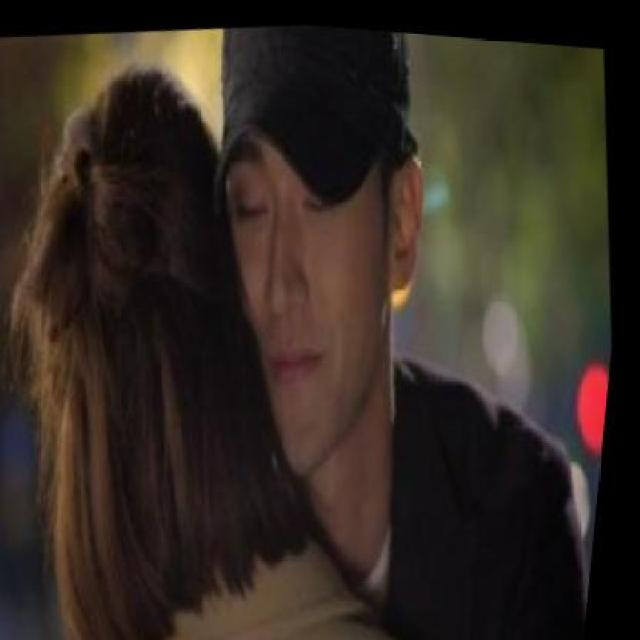hat: (200, 14, 425, 220)
